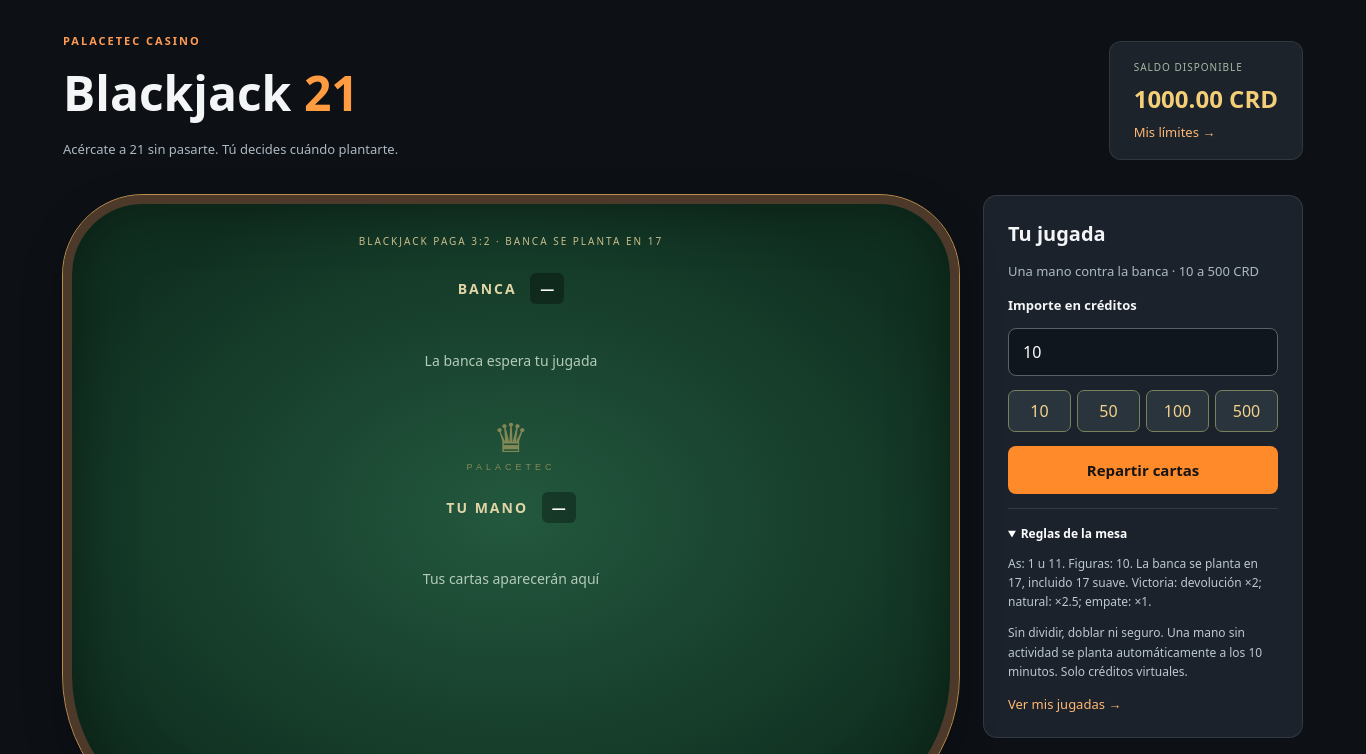
Test: un fallo de red reintenta la misma mano sin generar otra referencia
Click the button "Repartir cartas" at (1143, 470), box [1008,446,1278,494]
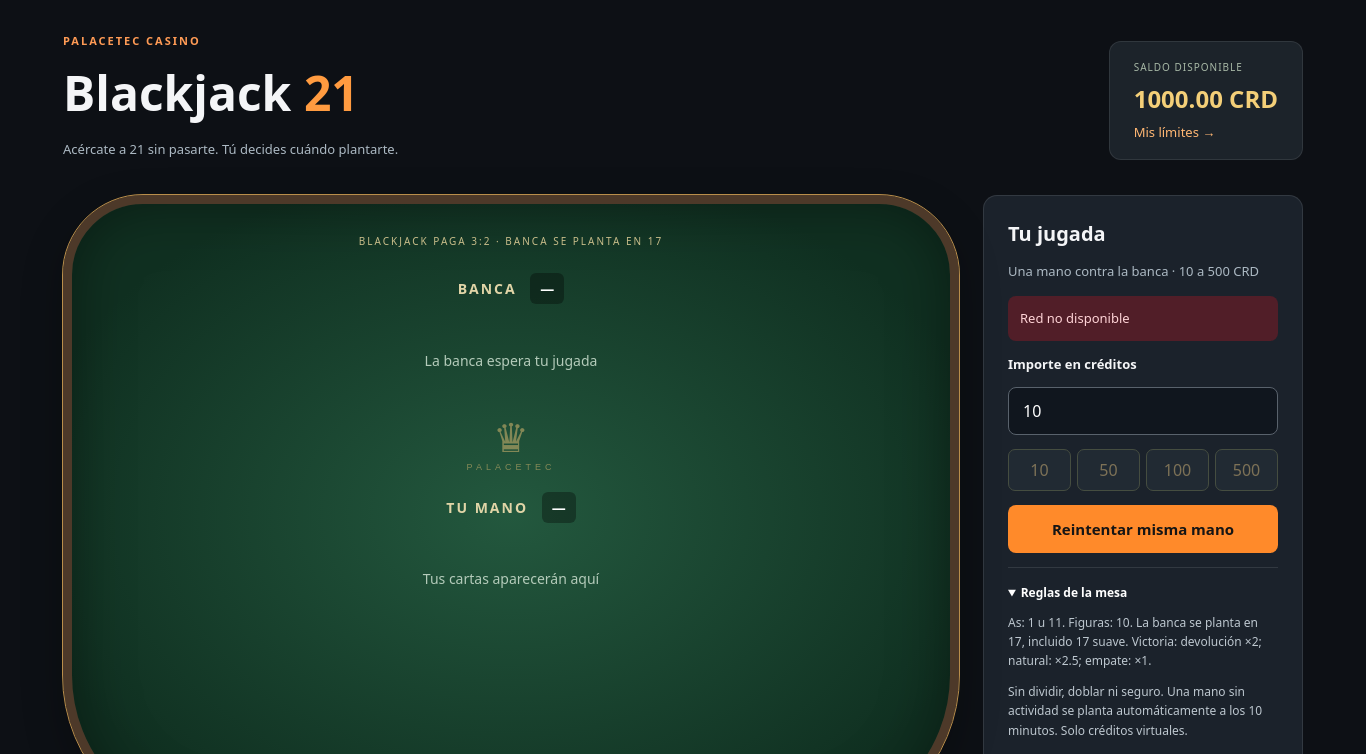
Click the button "Reintentar misma mano" at (1143, 529), box [1008,505,1278,553]
(page scrolled)
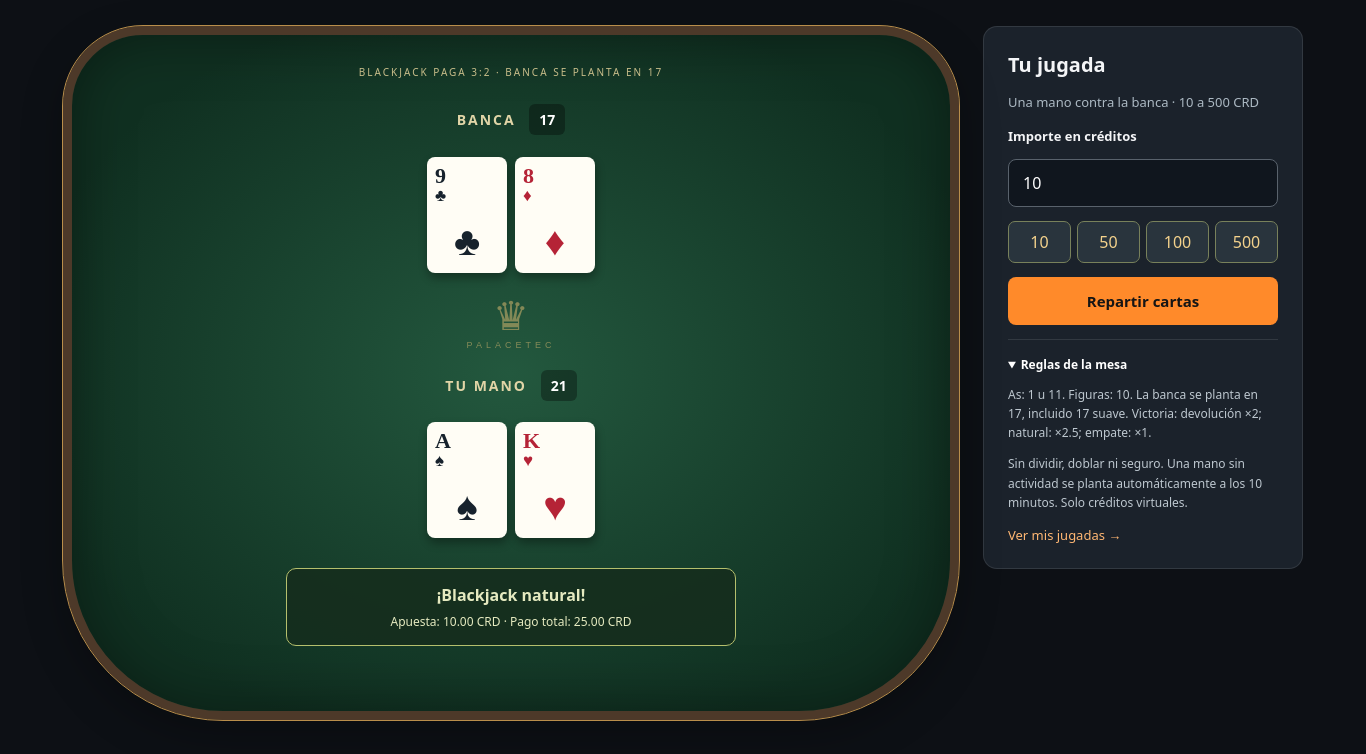
Expected: the text "¡Blackjack natural!" is shown, [437,584,585,606]
